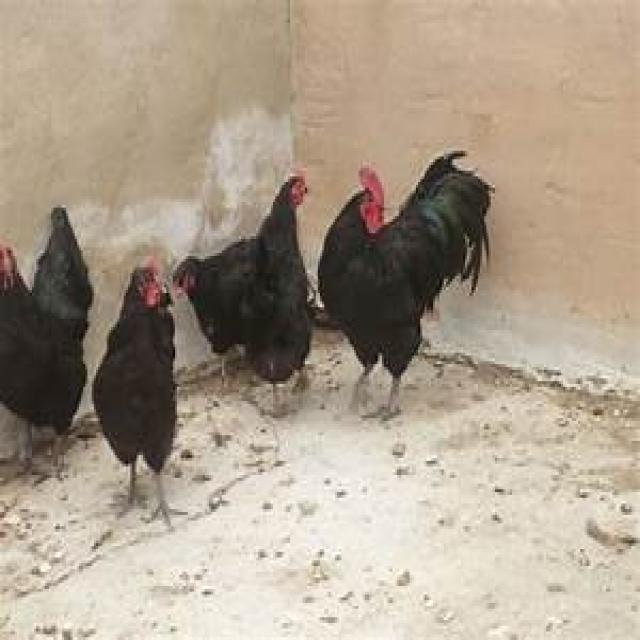chicken: (321, 134, 514, 364), (172, 150, 333, 406), (103, 232, 204, 526), (0, 179, 101, 450)
